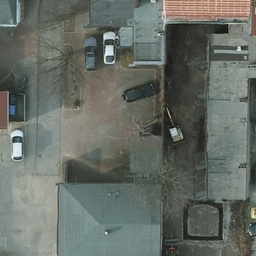car: (122, 82, 155, 102), (81, 39, 99, 73), (101, 31, 117, 64), (10, 129, 25, 162)
